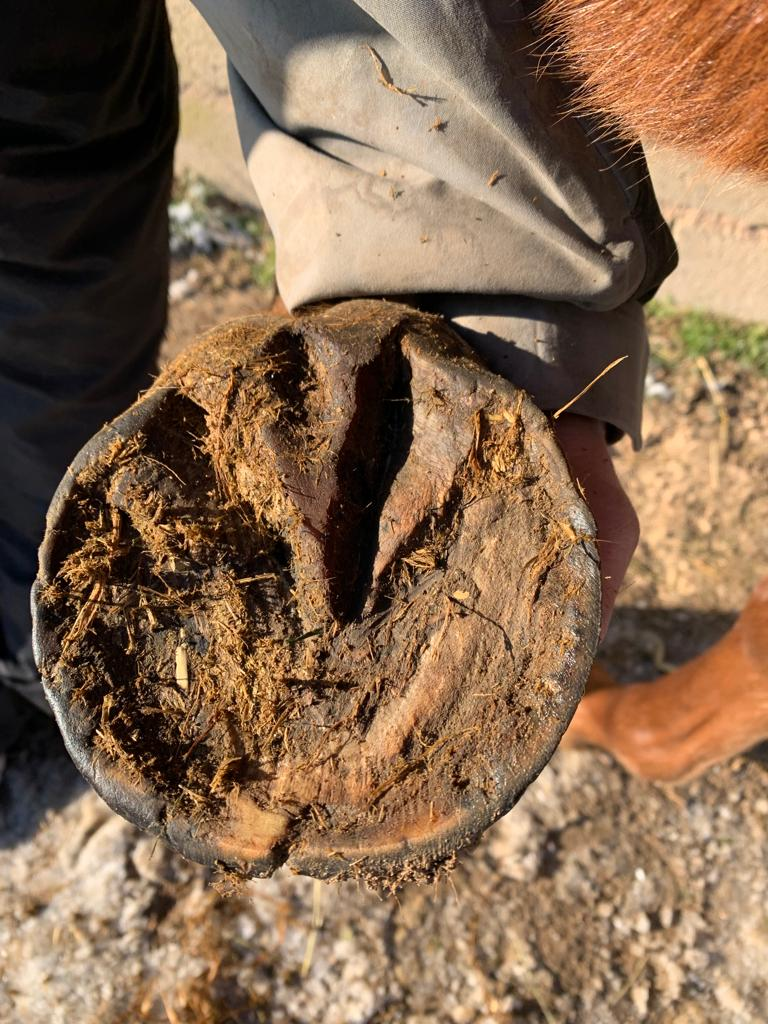horsesole: (30, 336, 600, 882)
